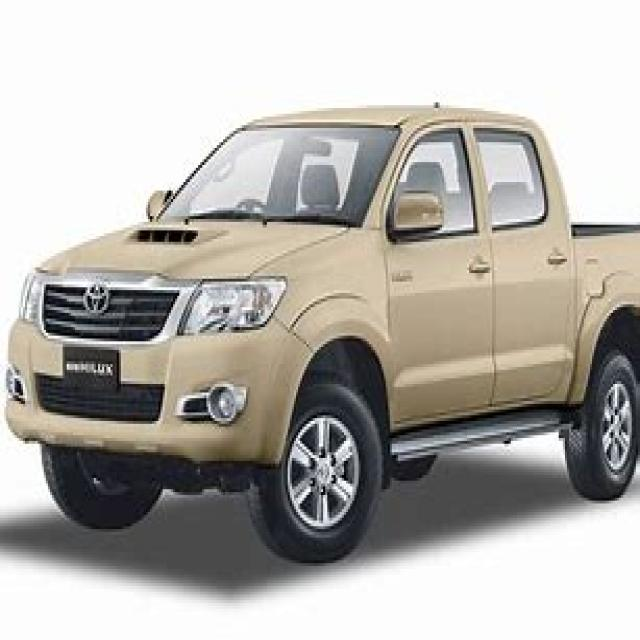light_vehicle: (12, 91, 638, 560)
